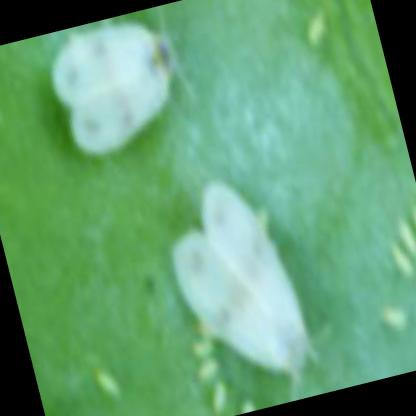whitefly: (171, 185, 309, 374), (52, 26, 178, 158)
